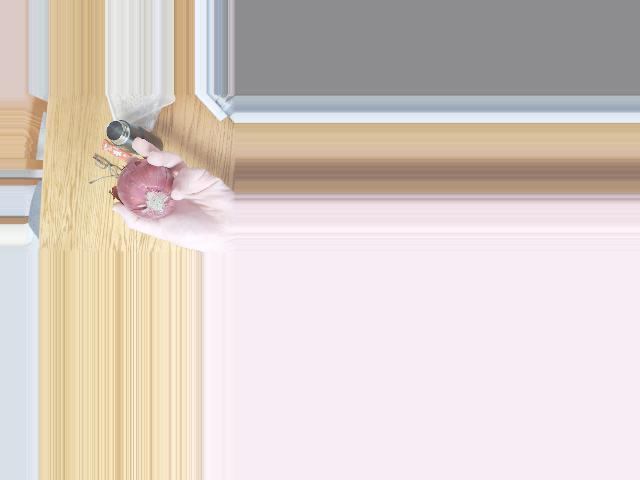onion: (117, 160, 183, 219)
